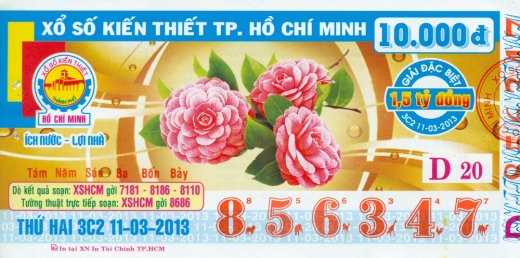serial_zone: (210, 191, 500, 244)
